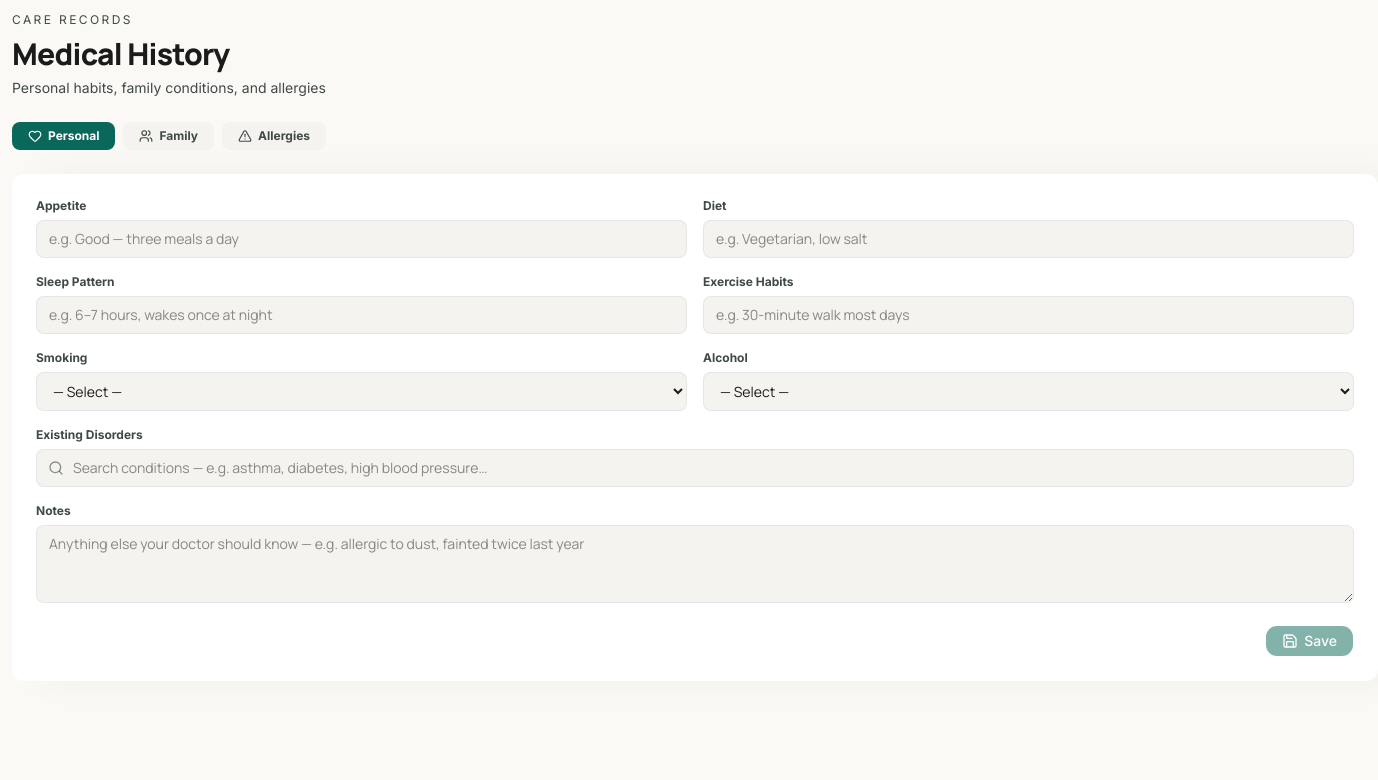
Scenario: Patient portal — Medical History › keeps focus in a text field across multiple keystrokes
This screenshot has width=1378, height=780.
Click the field labelled "Appetite".
click(362, 239)  # box x1=36 y1=220 x2=687 y2=258
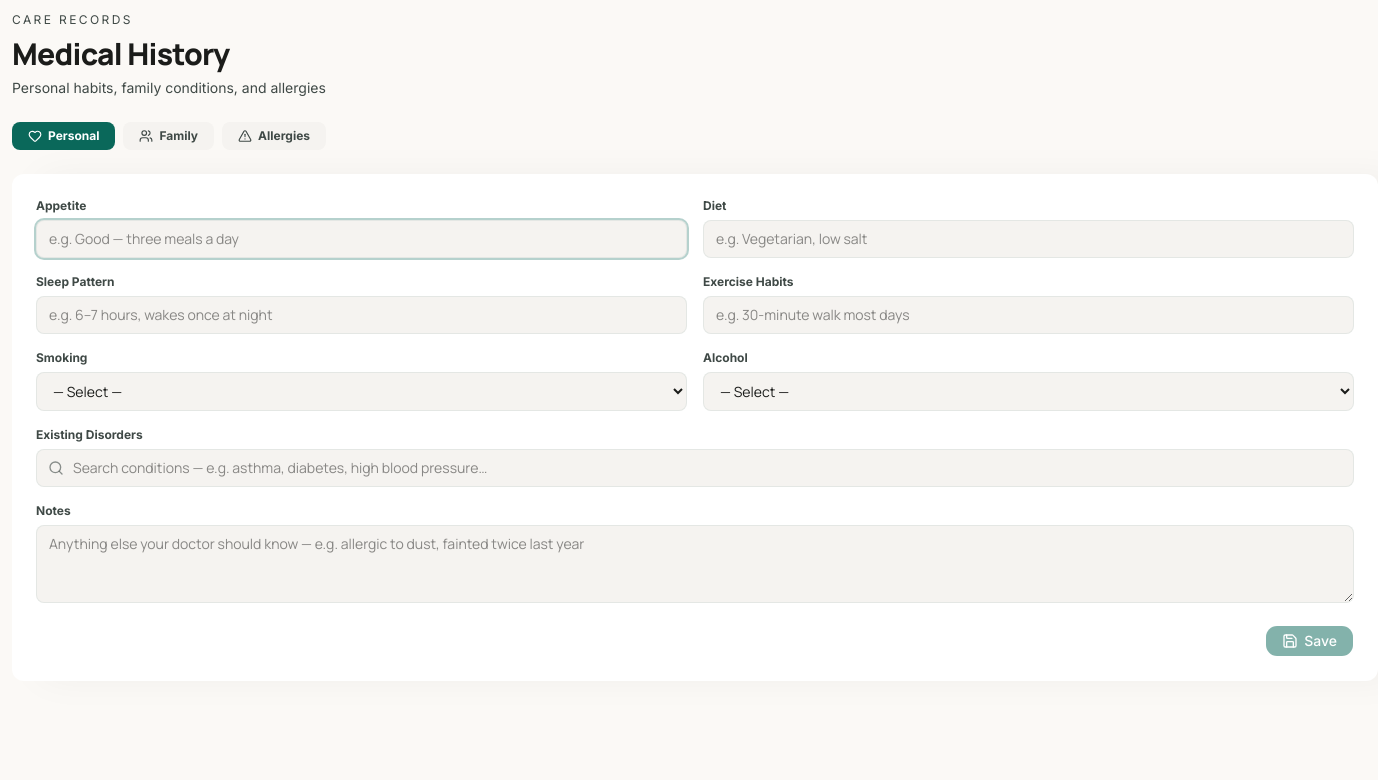
Type keys "poor"
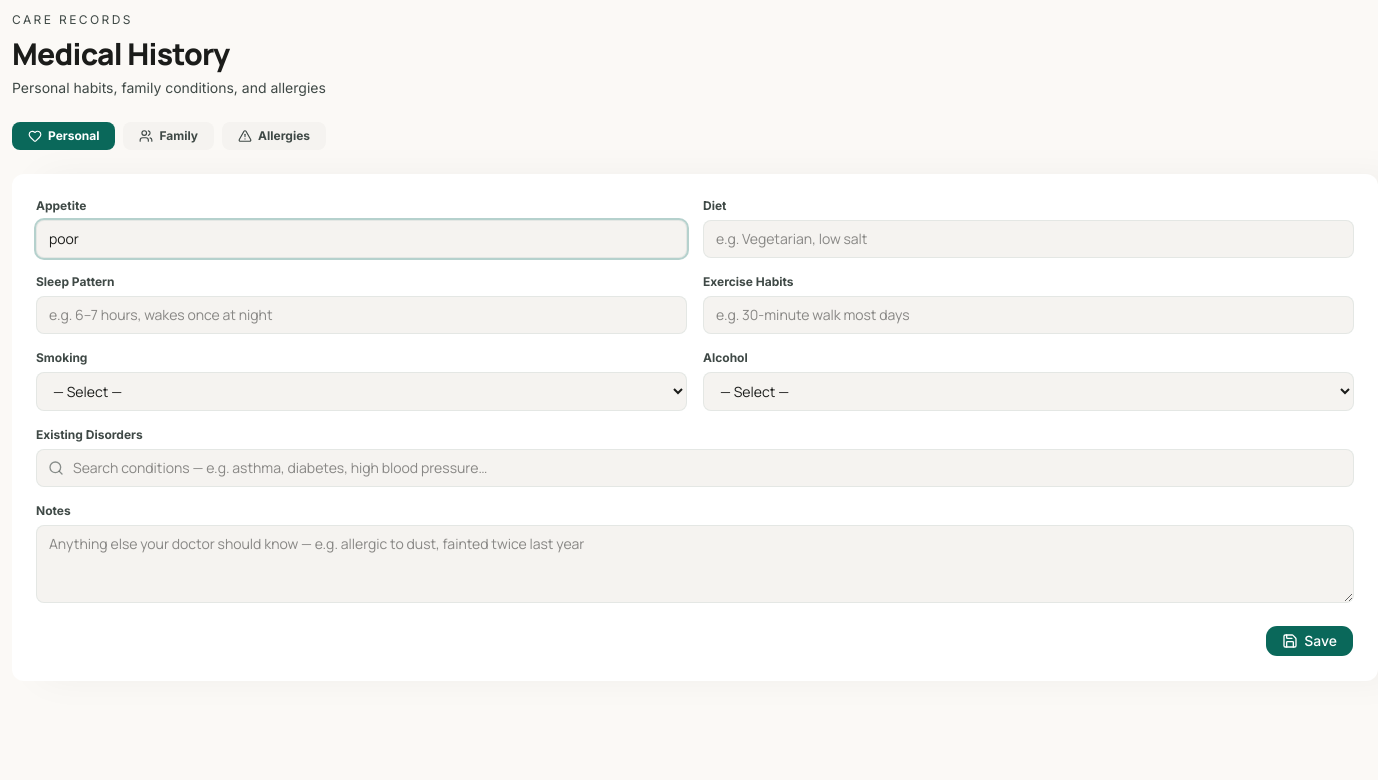
Check: the field labelled "Appetite" holds "poor", box x1=36 y1=220 x2=687 y2=258
